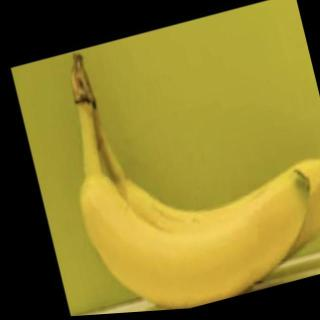banana: (69, 126, 320, 316)
